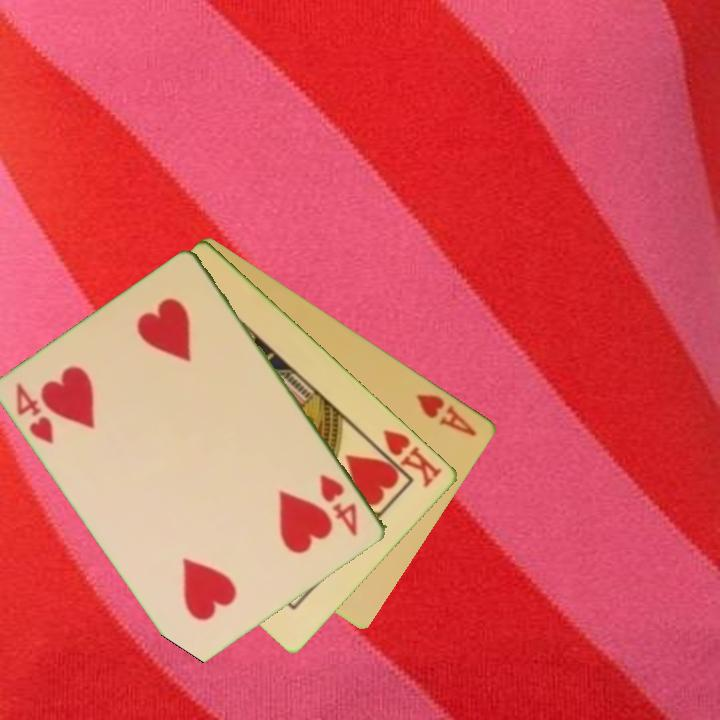4h: (316, 470, 361, 540), (12, 379, 58, 447)
Ah: (413, 390, 480, 440)
Kh: (368, 426, 446, 491)
